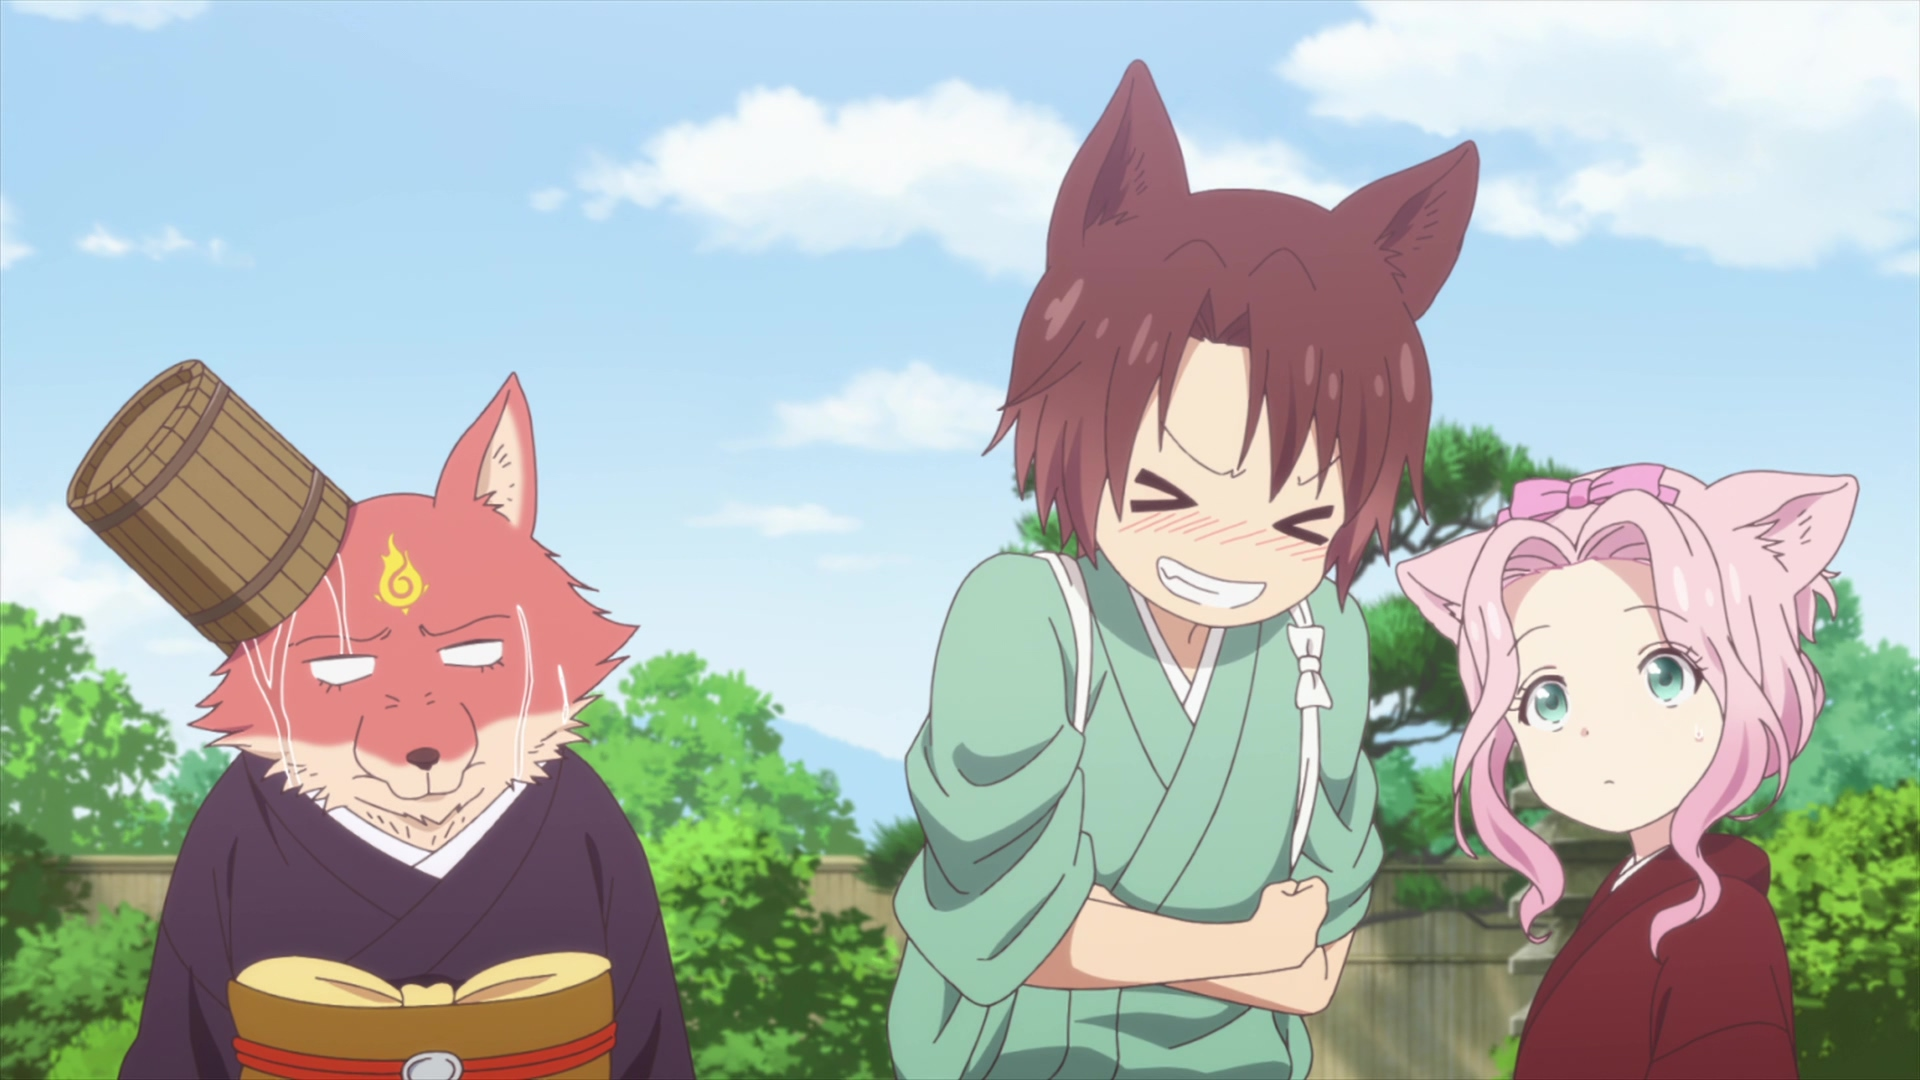枣: (887, 61, 1481, 1080)
椿: (65, 357, 695, 1080)
莲: (1396, 464, 1857, 1080)
